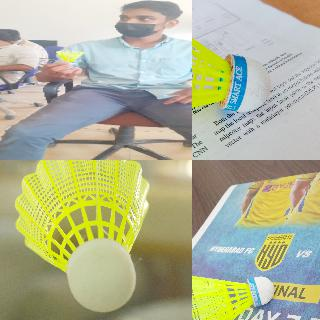shuttlecock: (14, 160, 150, 313), (192, 0, 271, 126), (192, 274, 275, 319), (55, 50, 83, 64)
